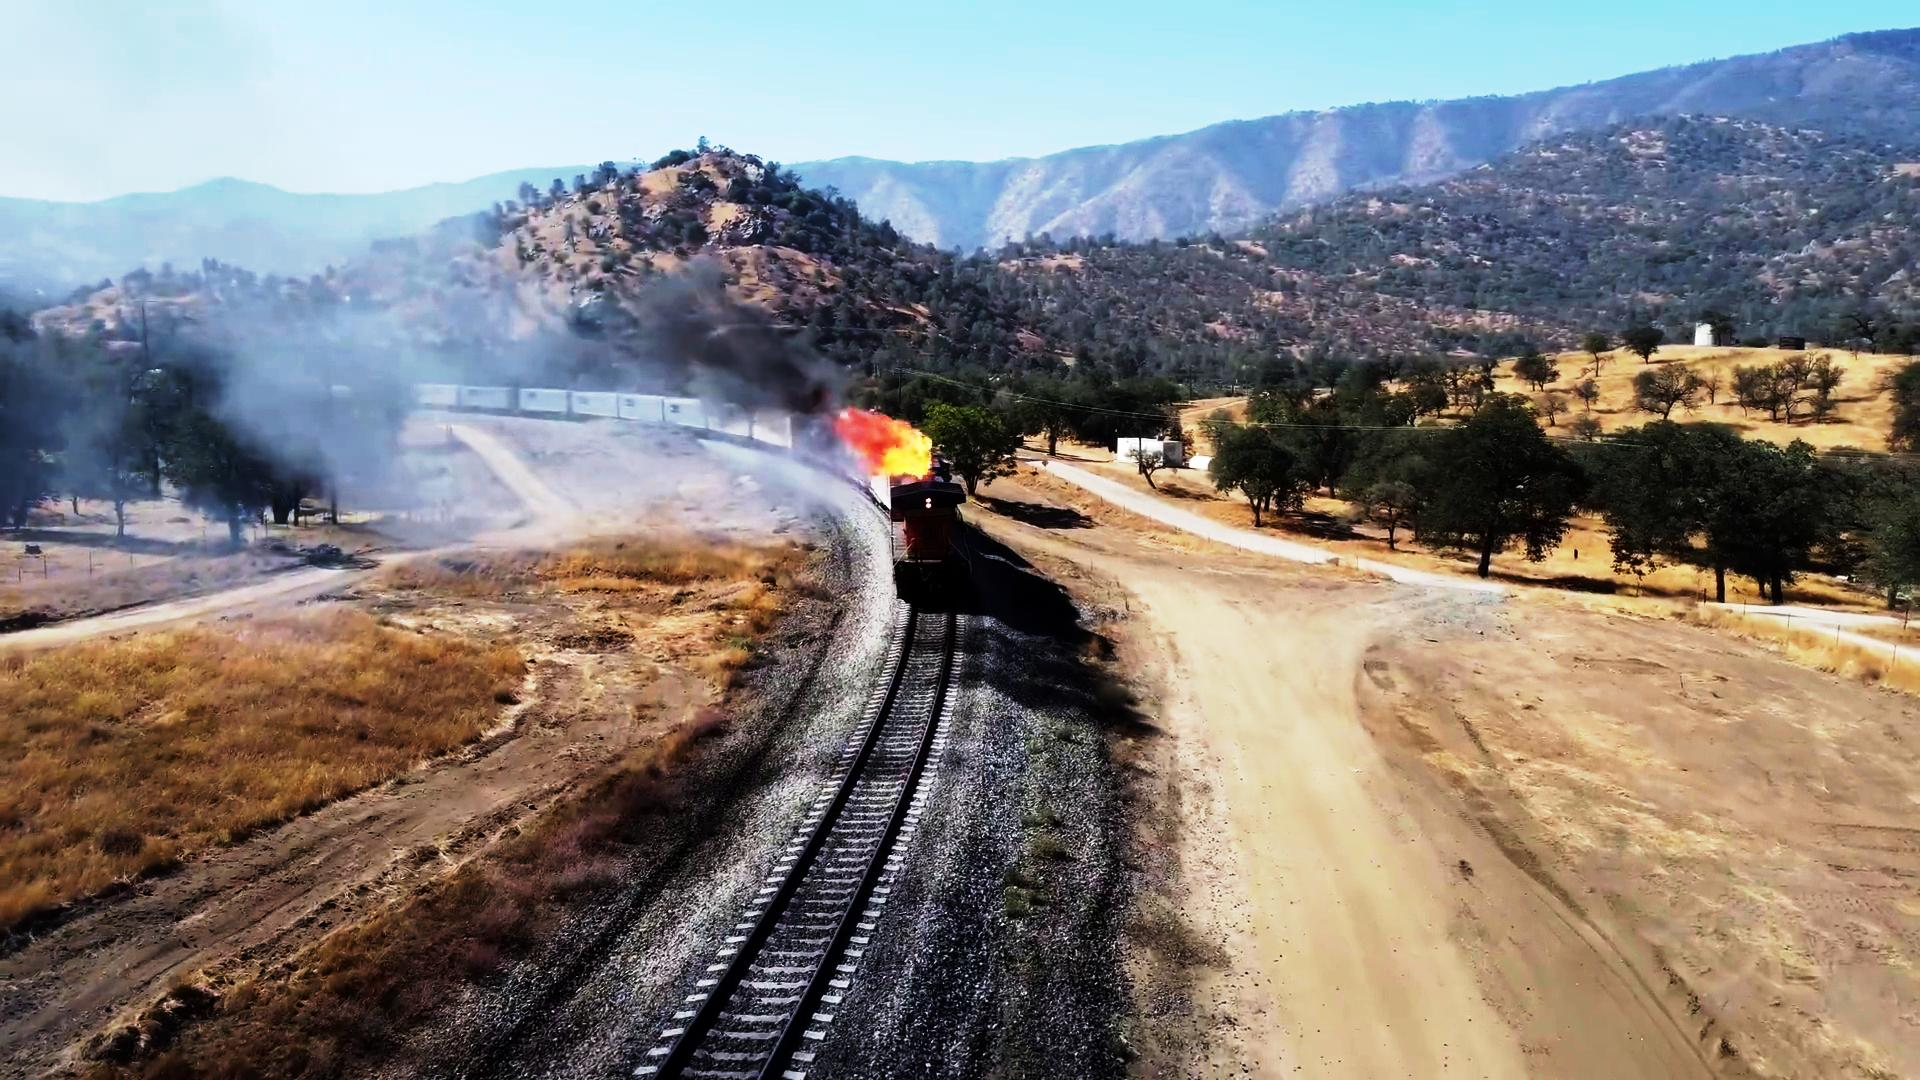fire: (833, 402, 947, 497)
smoke: (670, 323, 806, 521)
